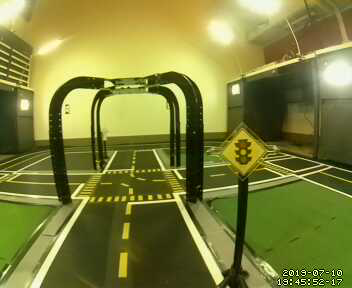Traffic light sign: (221, 126, 265, 175)
